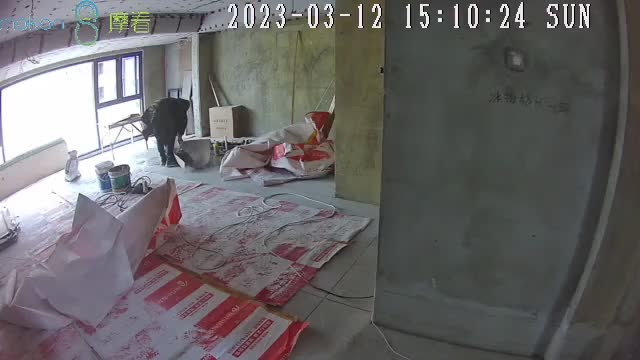people: (141, 96, 190, 167)
window: (2, 52, 142, 162)
